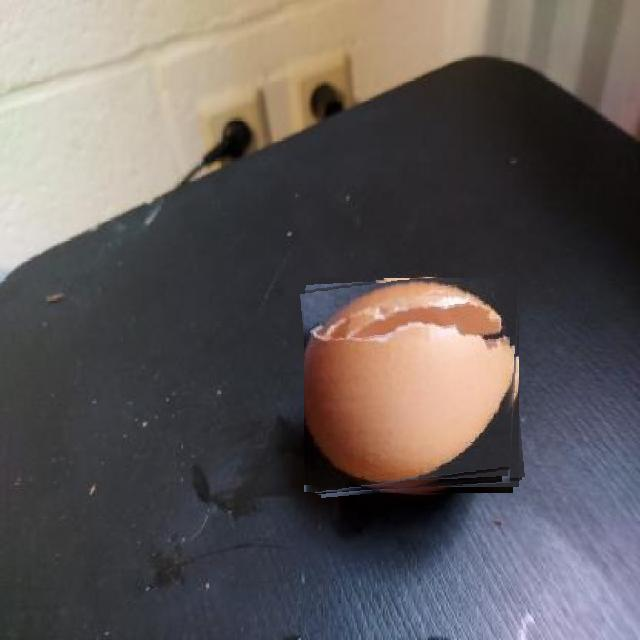biodegradable: (304, 278, 521, 494)
